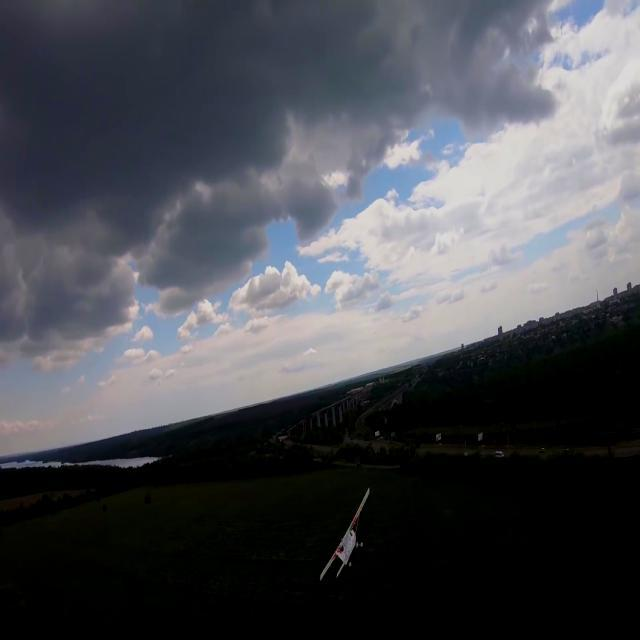iha: (314, 511, 374, 551)
